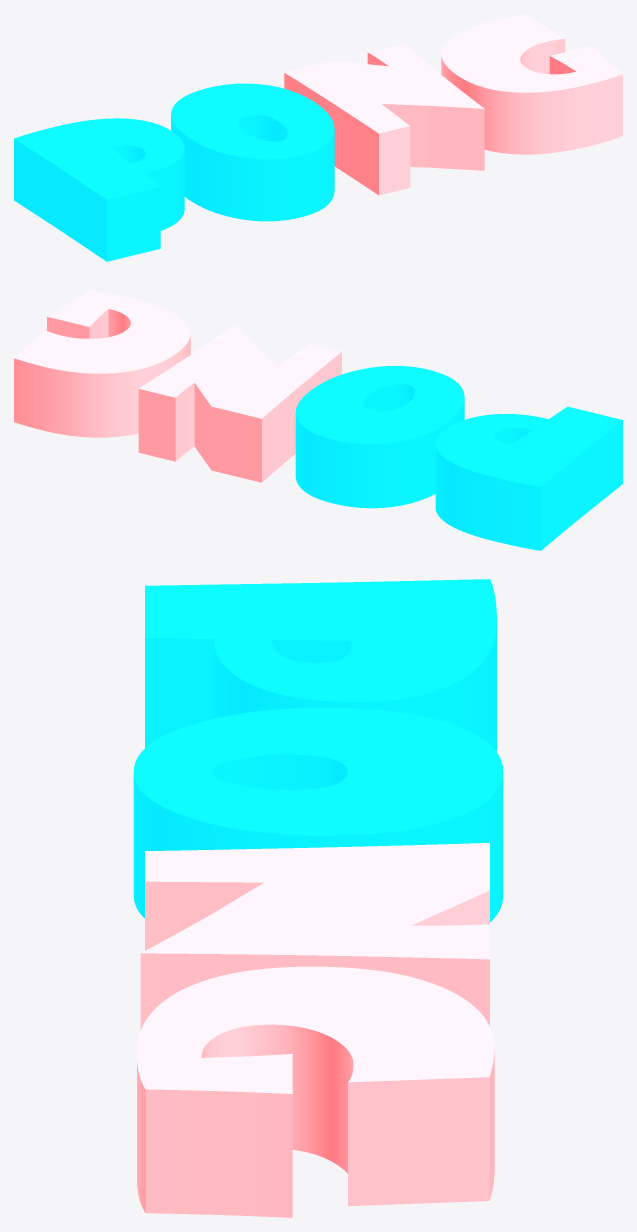
The model's file is Title.fbx.
The picture shows the model from 3 angles, top to bottom: view 1: azimuth 30°, elevation 25°; view 2: azimuth 150°, elevation 25°; view 3: azimuth 270°, elevation 25°; orthographic projection. The views are drawn at different scales.
Visible parts, largest first — view 1: Text.004, Text.002, Text.001, Text.003; view 2: Text.004, Text.002, Text.001, Text.003; view 3: Text.003, Text.002, Text.004, Text.001.
Part boxes in pixels (x1,y1,x2,y2): Text.004: [14, 118, 184, 261]; Text.002: [171, 83, 334, 221]; Text.001: [284, 43, 484, 195]; Text.003: [441, 14, 622, 154]; Text.004: [435, 406, 622, 550]; Text.002: [295, 366, 464, 508]; Text.001: [138, 324, 341, 482]; Text.003: [14, 290, 190, 437]; Text.003: [137, 966, 494, 1217]; Text.002: [133, 707, 503, 921]; Text.004: [145, 579, 496, 751]; Text.001: [140, 842, 489, 1030].
Size of the model in its own units: 214 by 24 by 64.93.
